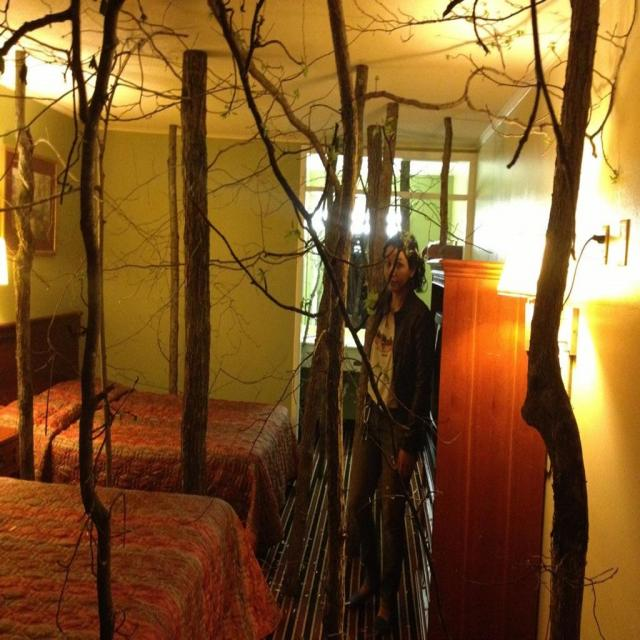nomask: (383, 248, 409, 292)
